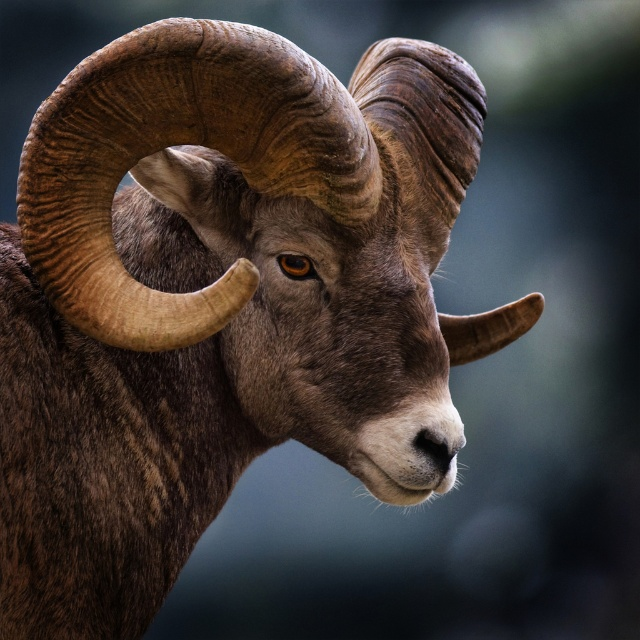Goat: (0, 12, 552, 618)
